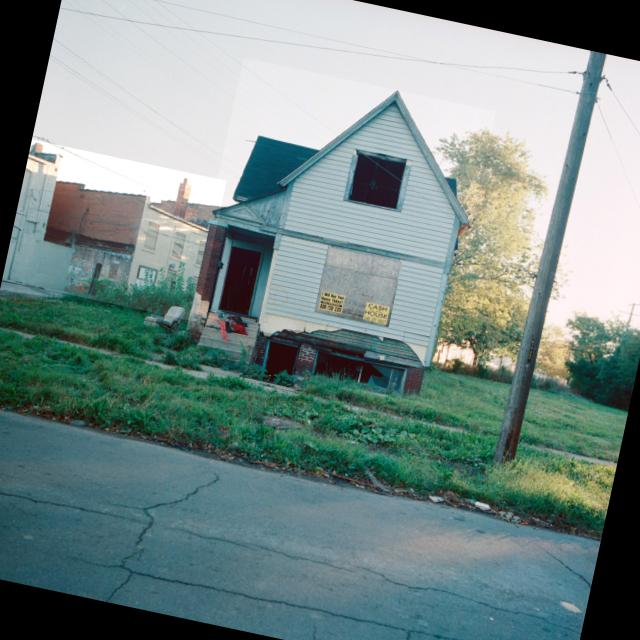House: (180, 58, 496, 408), (1, 139, 226, 321)
